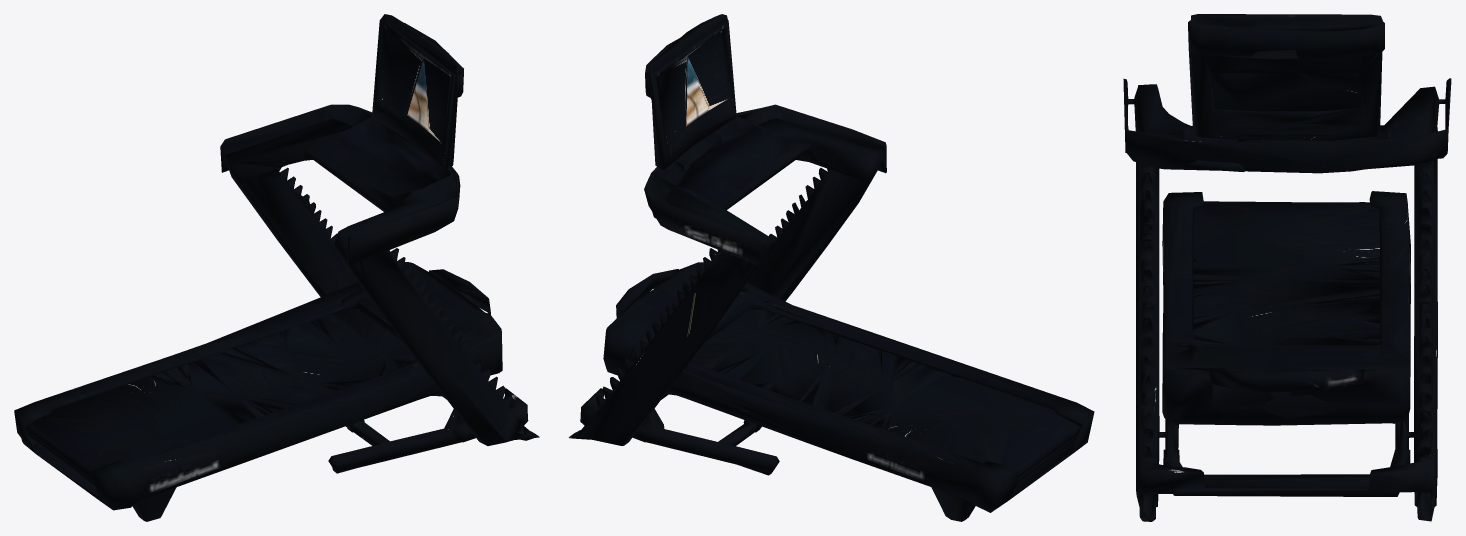
The model's file is k1-nordictrack-2450-phone.glb.
3 views of the same model, side by side, from view 1: azimuth 30°, elevation 25°; view 2: azimuth 150°, elevation 25°; view 3: azimuth 270°, elevation 25° (orthographic). The views are drawn at different scales.
Parts seen in each view (by area): view 1: material; view 2: material; view 3: material.
Boxes of the visible parts, left/top/right/bottom form: material: left=14, top=14, right=539, bottom=521; material: left=568, top=14, right=1094, bottom=521; material: left=1123, top=14, right=1451, bottom=521.
Bounding box in the file's own units: 0.8724 × 0.7288 × 0.4594.
1 material, 1 textured.
